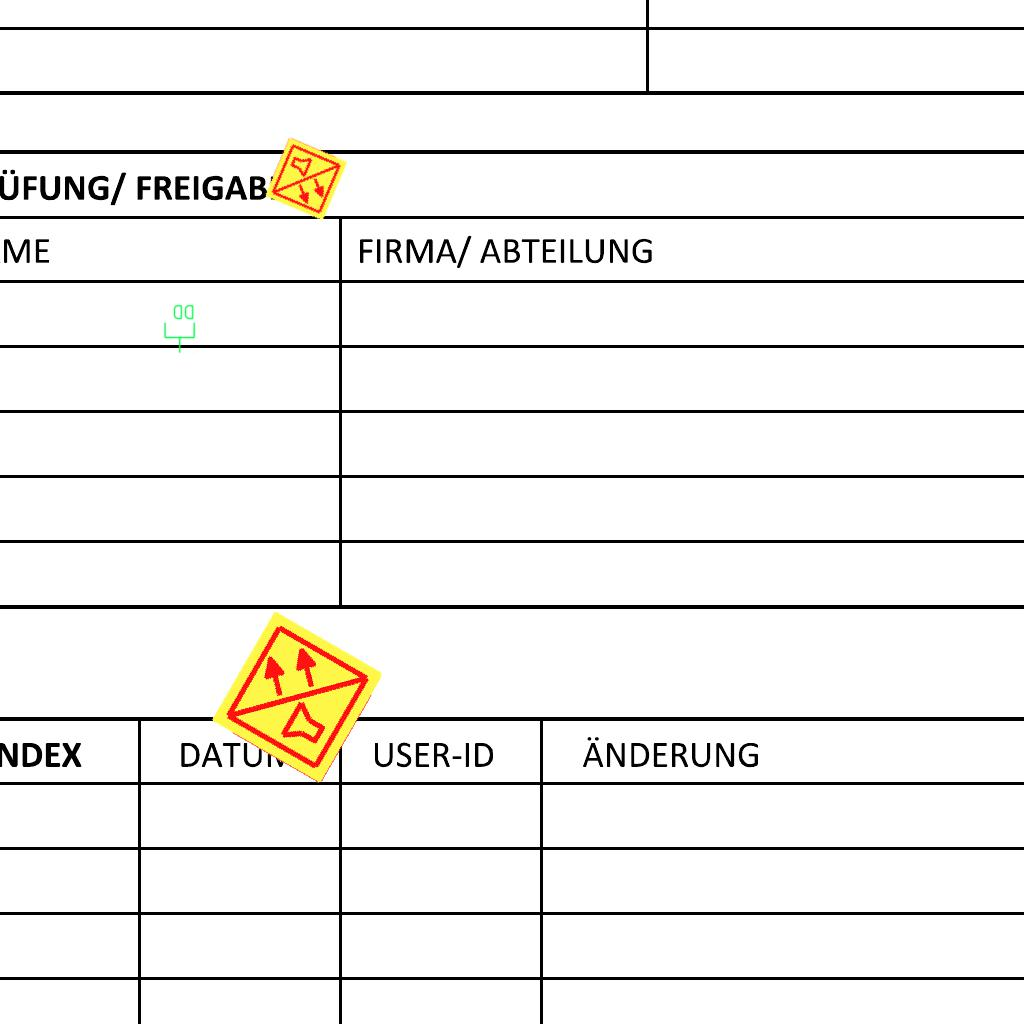Datenanschluss_zweifach: (163, 303, 197, 354)
OKW_Multisensormelder_(Kombination_optischer_Rauch-Kahlenmonoxid_Waerme-Melder): (207, 606, 389, 788), (262, 135, 350, 223)
